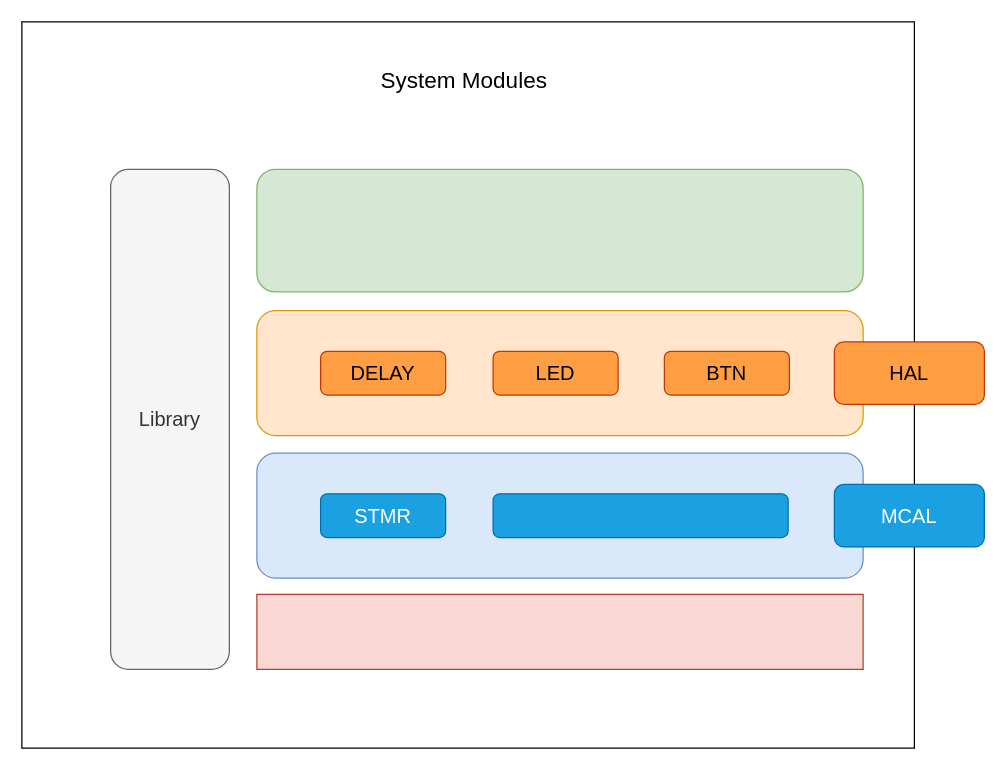
This 1006x770 diagram has some shape labels left out. Here are the shapes that lost their labels. From the top down, the centre of each, then its label:
At (559,230): "Application Layer".
At (640,515): "GPIO".
At (559,631): "Microcontroller".
